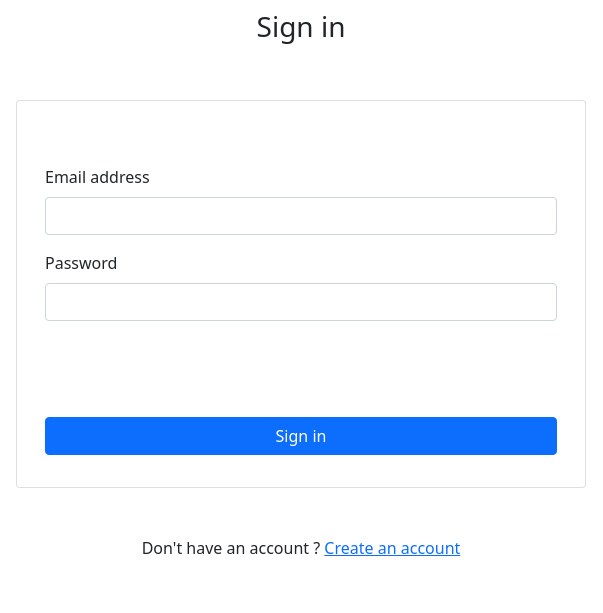
Test case: LoginForm › should throw error without valid inputs
Click the button with test id "button" at (301, 436), box [45, 417, 557, 455]
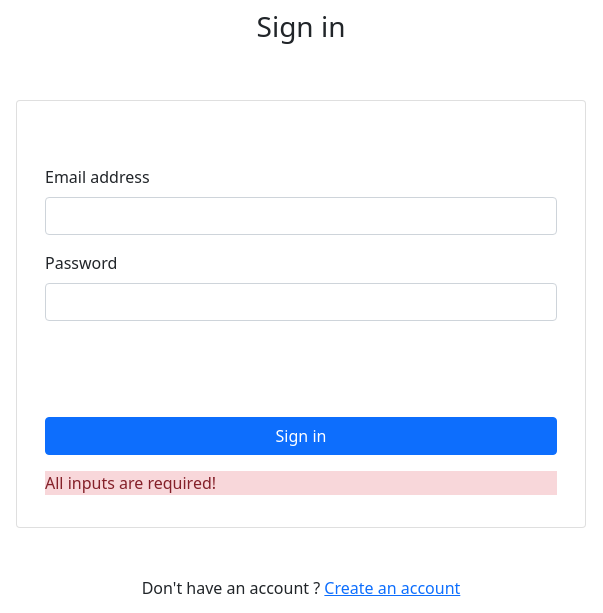
Expected: the text with test id "error" reads "All inputs are required!", [45, 472, 216, 494]
